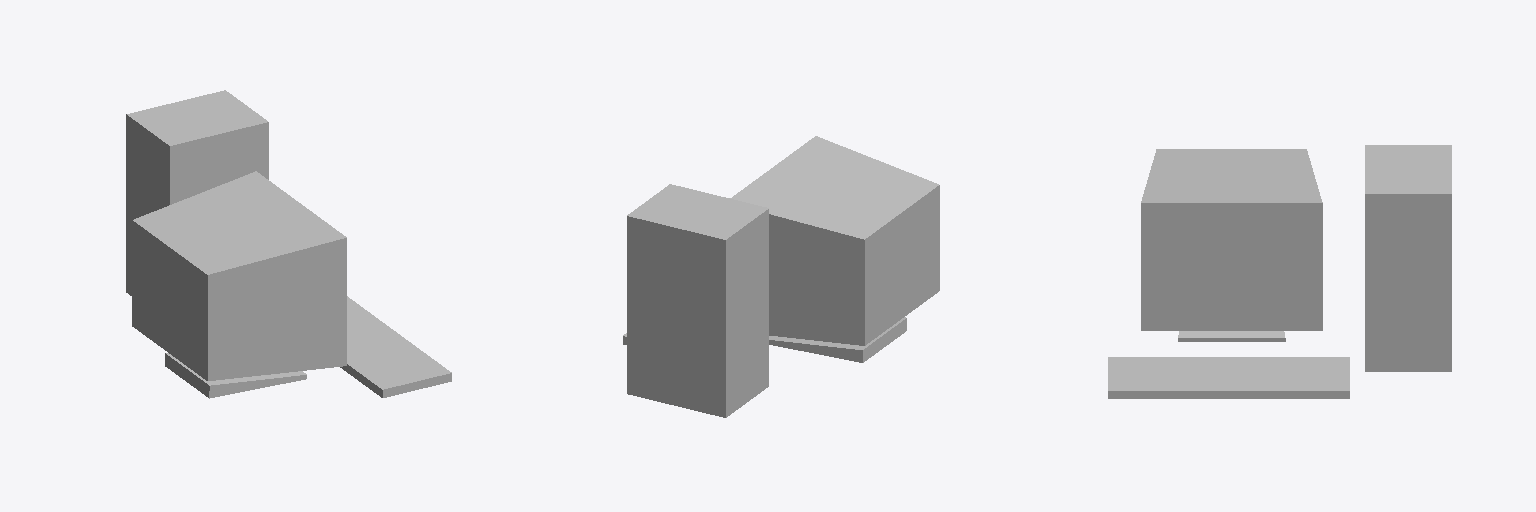
Rendered from old_computer.obj.
3 renders of one model, left to right at view 1: azimuth 30°, elevation 25°; view 2: azimuth 150°, elevation 25°; view 3: azimuth 270°, elevation 25°, orthographic.
Parts seen in each view (by area): view 1: desk; view 2: desk; view 3: desk.
Part boxes in pixels (x1,y1,x2,y2): desk: (126, 90, 451, 398); desk: (623, 136, 939, 417); desk: (1108, 145, 1451, 398).
Size of the model in its own units: 2.75 by 2.14 by 3.72.